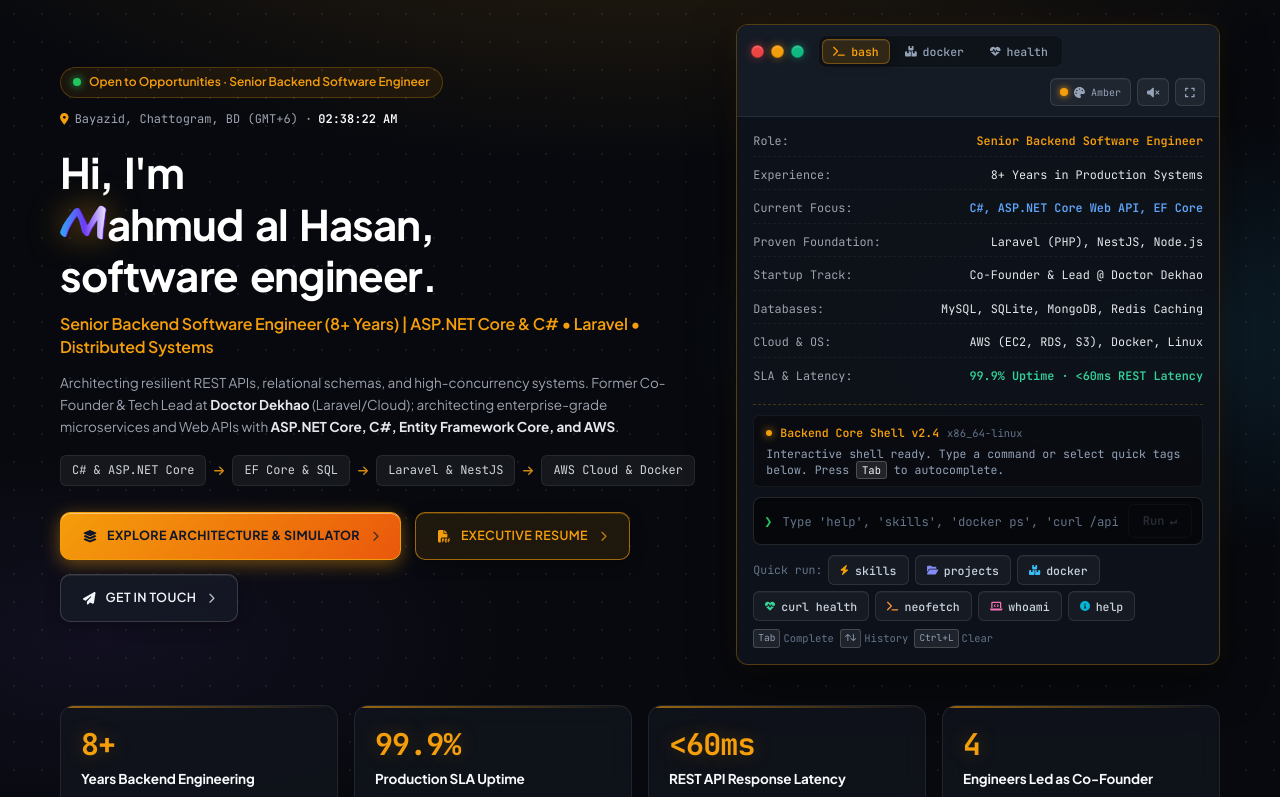
it: Home Component › collapses and expands system specifications card
The width and height of the screenshot is (1280, 797).
What coordinates should you click on to do the following:
click the button named "Minimize system specs"
I would click on:
 (778, 52)
Its box is [771,45,784,58].
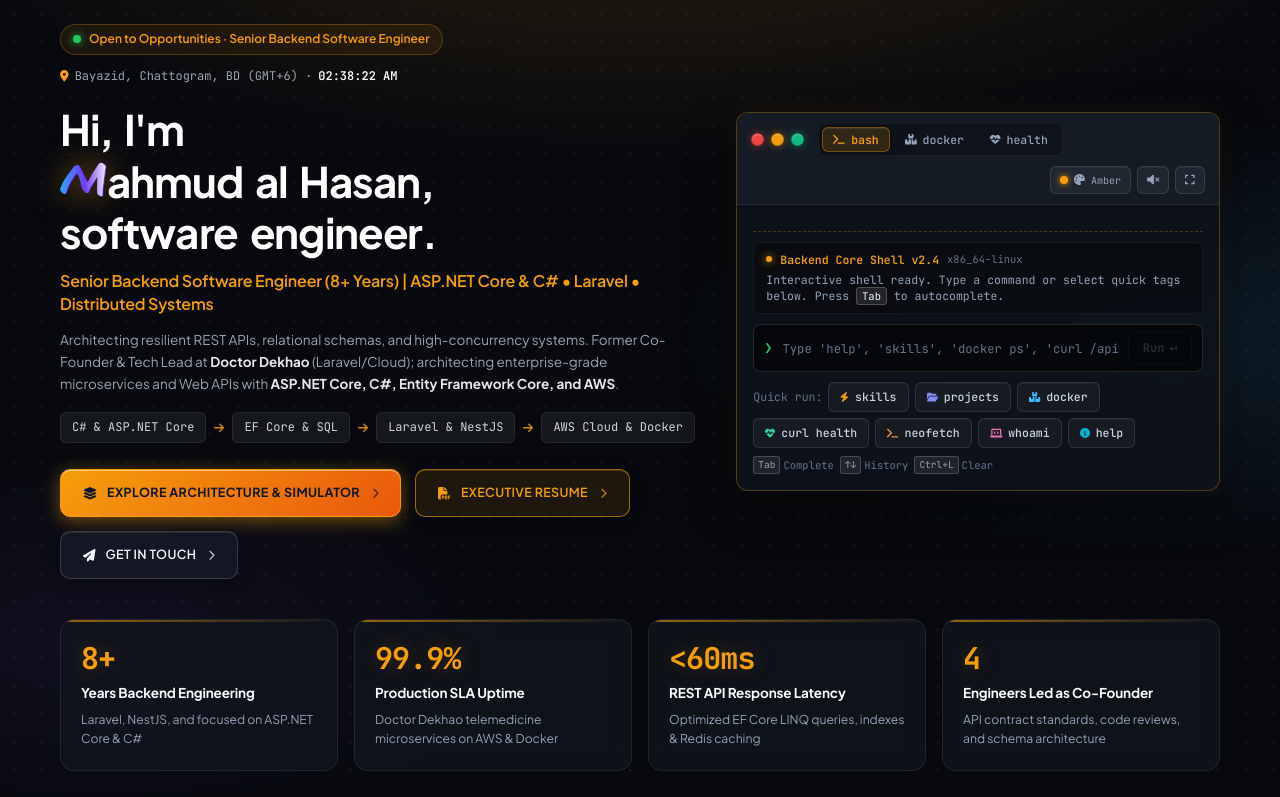
Expected: the button named "Expand system specs" is shown
What coordinates should you click on to do the following:
click the button named "Expand system specs"
I would click on:
 (778, 139)
Its box is [771,132,784,146].
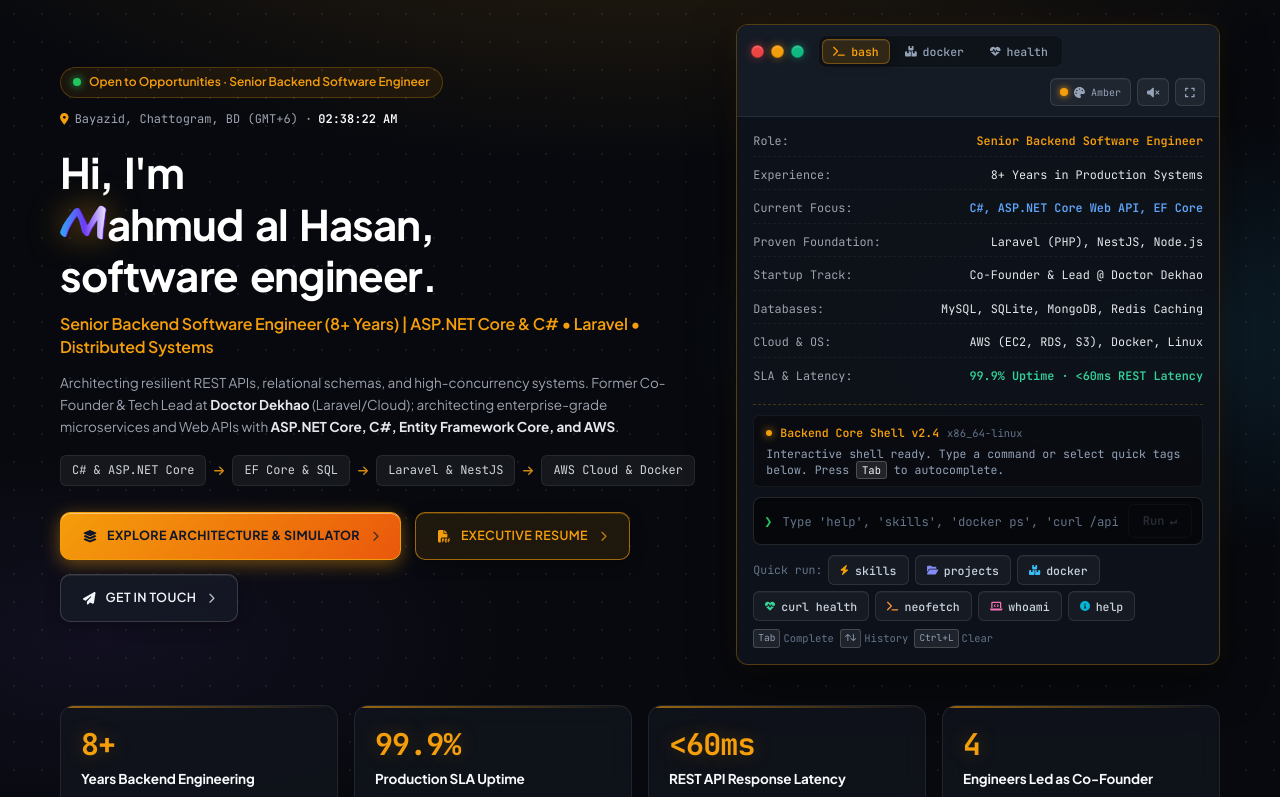
Expected: the button named "Minimize system specs" is shown, [771,45,784,58]
